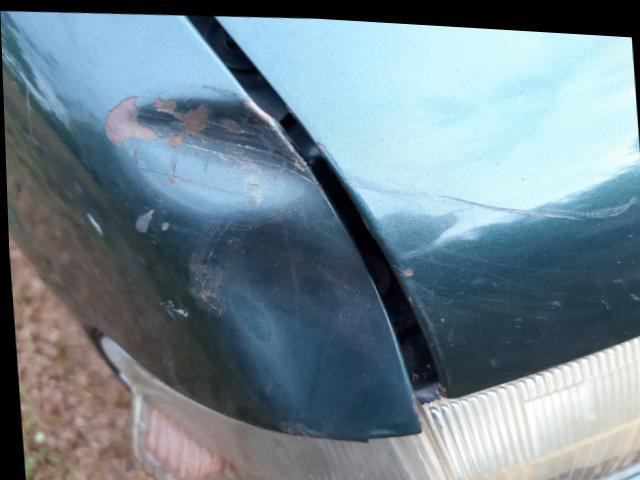dent: (108, 83, 391, 433)
scratch: (348, 172, 640, 336)
